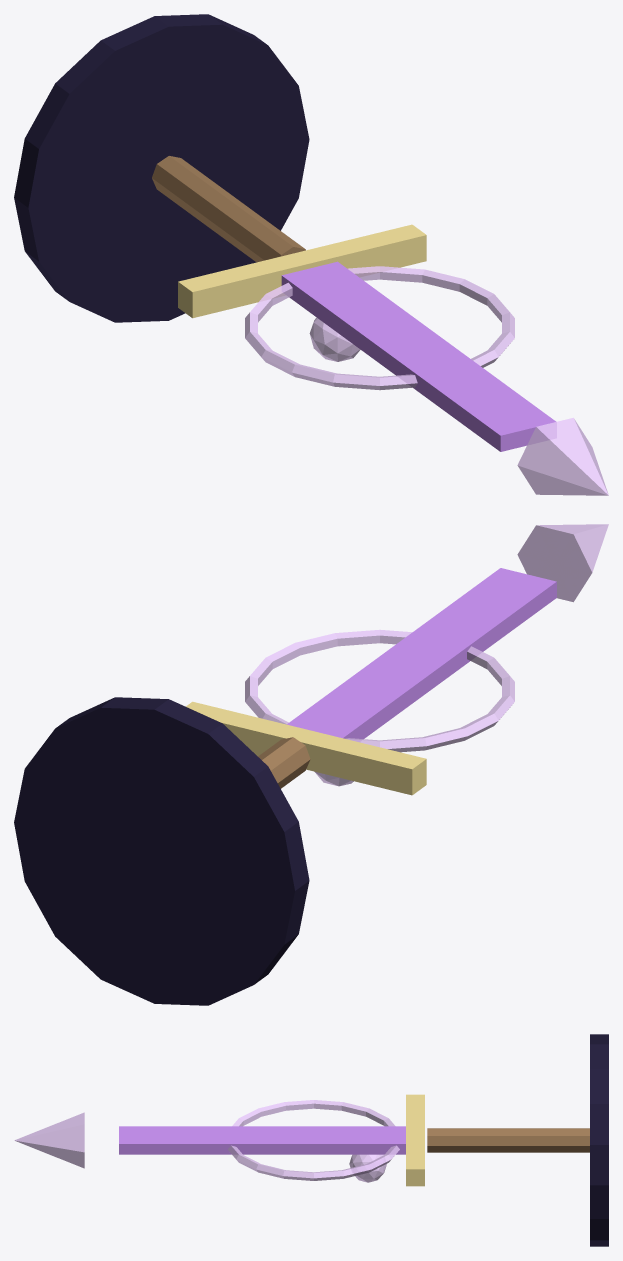
Rendered from 03_high_tier_magic_weapon.glb.
3 renders of one model, top to bottom at view 1: azimuth 30°, elevation 25°; view 2: azimuth 150°, elevation 25°; view 3: azimuth 270°, elevation 25°, orthographic. The views are drawn at different scales.
Visible parts, largest first — view 1: weapon_display_base, magic_blade_or_staff_core, relic_guard, weapon_aura_ring, weapon_grip, weapon_tip, socketed_gem; view 2: weapon_display_base, magic_blade_or_staff_core, relic_guard, weapon_aura_ring, weapon_tip, weapon_grip; view 3: magic_blade_or_staff_core, weapon_grip, weapon_display_base, weapon_aura_ring, weapon_tip, relic_guard, socketed_gem.
Boxes of the visible parts, <box> form: weapon_display_base: <box>14,14,309,322</box>; magic_blade_or_staff_core: <box>281,261,556,451</box>; relic_guard: <box>178,224,426,318</box>; weapon_aura_ring: <box>245,266,514,390</box>; weapon_grip: <box>152,156,305,262</box>; weapon_tip: <box>517,417,608,495</box>; socketed_gem: <box>309,317,360,361</box>; weapon_display_base: <box>14,697,309,1005</box>; magic_blade_or_staff_core: <box>287,568,556,741</box>; relic_guard: <box>186,701,426,795</box>; weapon_aura_ring: <box>245,629,514,752</box>; weapon_tip: <box>517,524,608,602</box>; weapon_grip: <box>258,737,310,788</box>; magic_blade_or_staff_core: <box>119,1126,405,1154</box>; weapon_grip: <box>427,1128,589,1152</box>; weapon_display_base: <box>590,1034,608,1246</box>; weapon_aura_ring: <box>227,1100,399,1180</box>; weapon_tip: <box>14,1112,84,1168</box>; relic_guard: <box>406,1094,424,1186</box>; socketed_gem: <box>349,1154,386,1182</box>.
Bounding box in the file's own units: 0.9 × 0.9 × 2.52.
